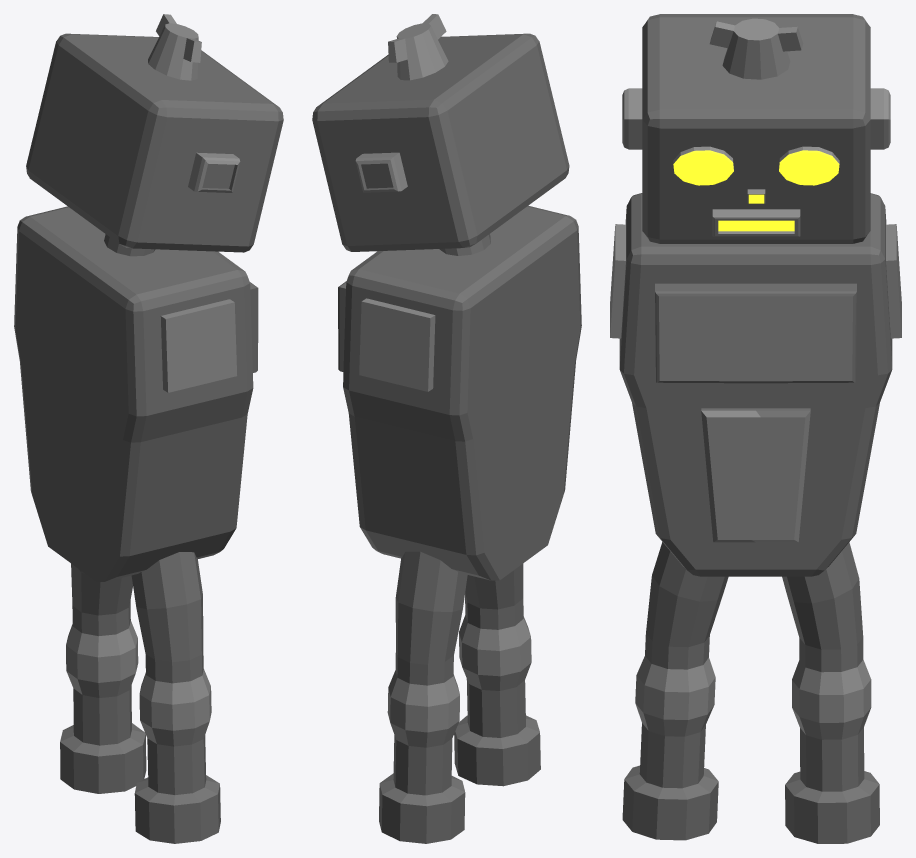
File: robot dañado3.glb
3 views of the same model, side by side, from view 1: azimuth 30°, elevation 25°; view 2: azimuth 150°, elevation 25°; view 3: azimuth 270°, elevation 25° (orthographic). The views are drawn at different scales.
Visible parts, largest first — view 1: torso.001, cabeza.001, pierna 2, pierna, hombro2; view 2: torso.001, cabeza.001, pierna, pierna 2, hombro; view 3: torso.001, cabeza.001, pierna, pierna 2, hombro, hombro2.
Boxes of the visible parts, x1=… form: torso.001: x1=14, y1=206, x2=258, y2=581; cabeza.001: x1=26, y1=14, x2=283, y2=256; pierna 2: x1=131, y1=552, x2=220, y2=843; pierna: x1=60, y1=563, x2=146, y2=793; hombro2: x1=160, y1=299, x2=236, y2=392; torso.001: x1=338, y1=205, x2=581, y2=580; cabeza.001: x1=312, y1=14, x2=569, y2=255; pierna: x1=379, y1=551, x2=467, y2=843; pierna 2: x1=454, y1=563, x2=540, y2=786; hombro: x1=359, y1=298, x2=435, y2=391; torso.001: x1=619, y1=193, x2=892, y2=576; cabeza.001: x1=622, y1=14, x2=890, y2=243; pierna: x1=782, y1=542, x2=879, y2=843; pierna 2: x1=622, y1=542, x2=728, y2=840; hombro: x1=886, y1=224, x2=901, y2=338; hombro2: x1=610, y1=224, x2=625, y2=338.
Size of the model in its own units: 2.02 by 8.95 by 2.87.
